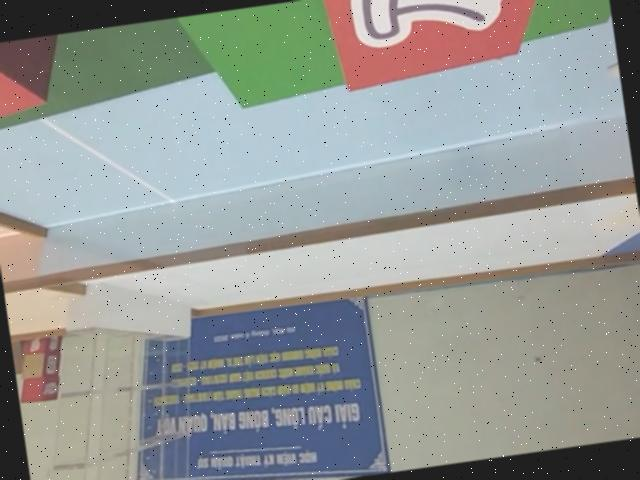R2 Fake: (314, 0, 588, 99)
R2 Real: (0, 34, 74, 143)
